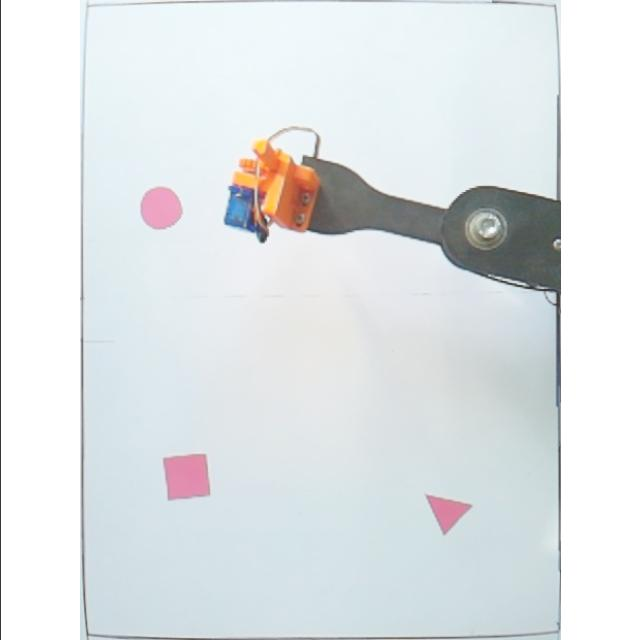pinkCircle: (138, 186, 184, 230)
pinkSquare: (162, 452, 212, 502)
pinkTriangle: (421, 492, 475, 538)
